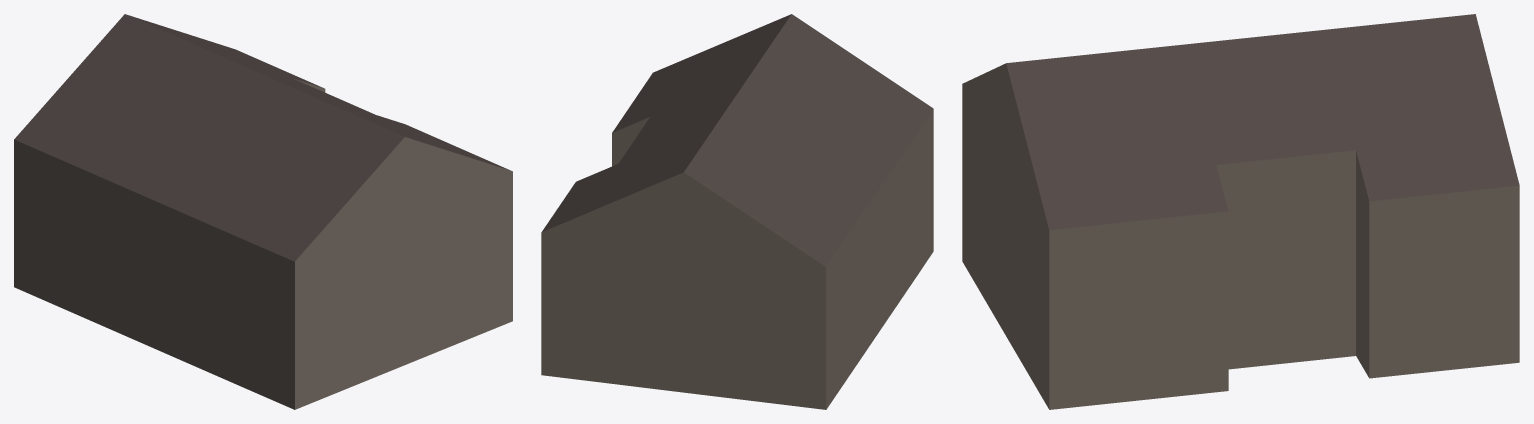
The picture shows the model from 3 angles, left to right: view 1: azimuth 30°, elevation 25°; view 2: azimuth 150°, elevation 25°; view 3: azimuth 270°, elevation 25°; orthographic projection. The views are drawn at different scales.
Visible parts, largest first — view 1: HP-w299011318; view 2: HP-w299011318; view 3: HP-w299011318.
Boxes of the visible parts, x1,y1,x2,y2 form: HP-w299011318: (14, 14, 512, 409); HP-w299011318: (541, 14, 933, 409); HP-w299011318: (962, 14, 1519, 409).
Size of the model in its own units: 21.61 by 13.9 by 25.69.
